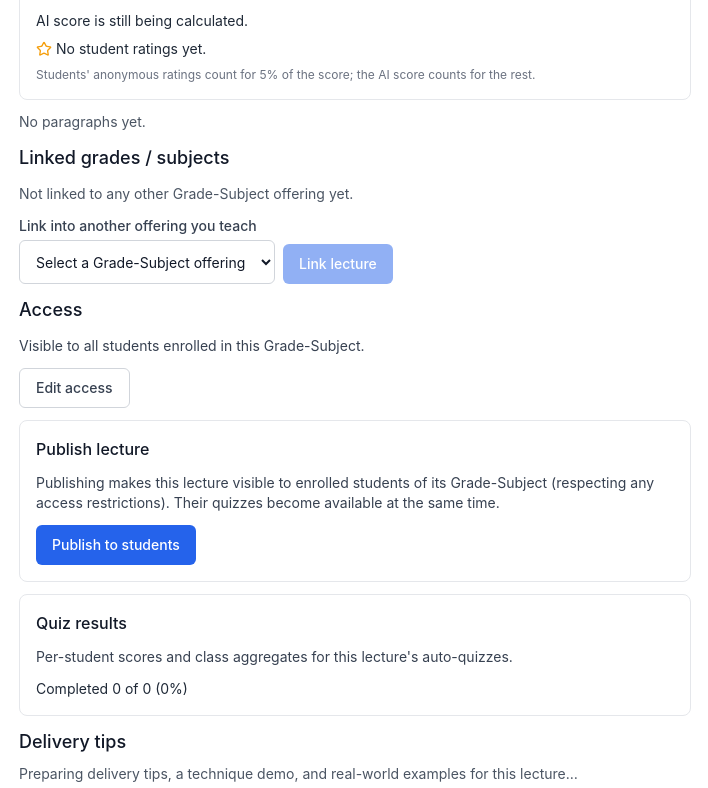
it: LectureAccessPanel (T-123) › lets the teacher restrict access to a section
The width and height of the screenshot is (708, 788).
(page scrolled)
Click the button "Edit access". click: (74, 388)
box: 19,368 -> 130,408
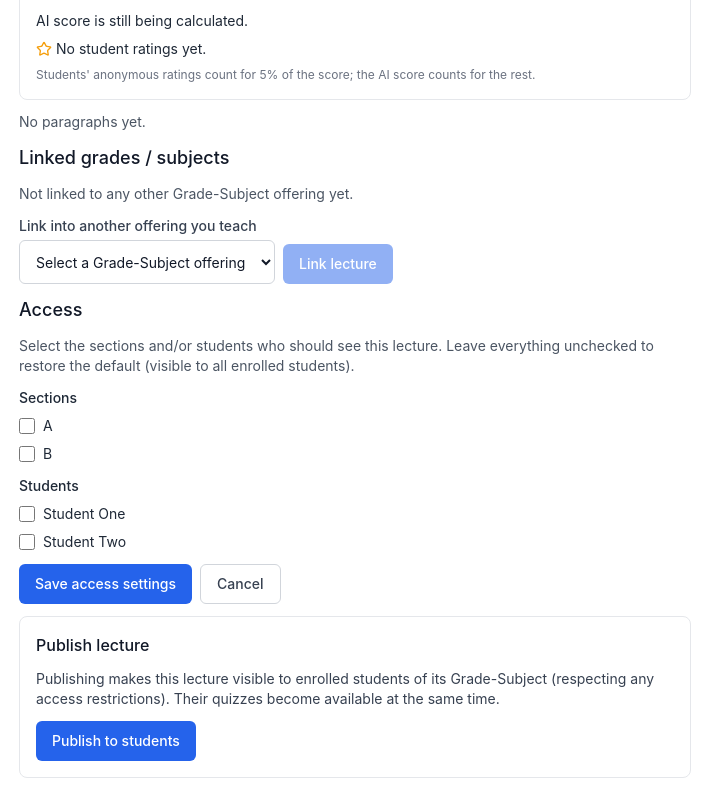
Click the checkbox labelled "A". click: (27, 426)
box: 19,418 -> 35,434
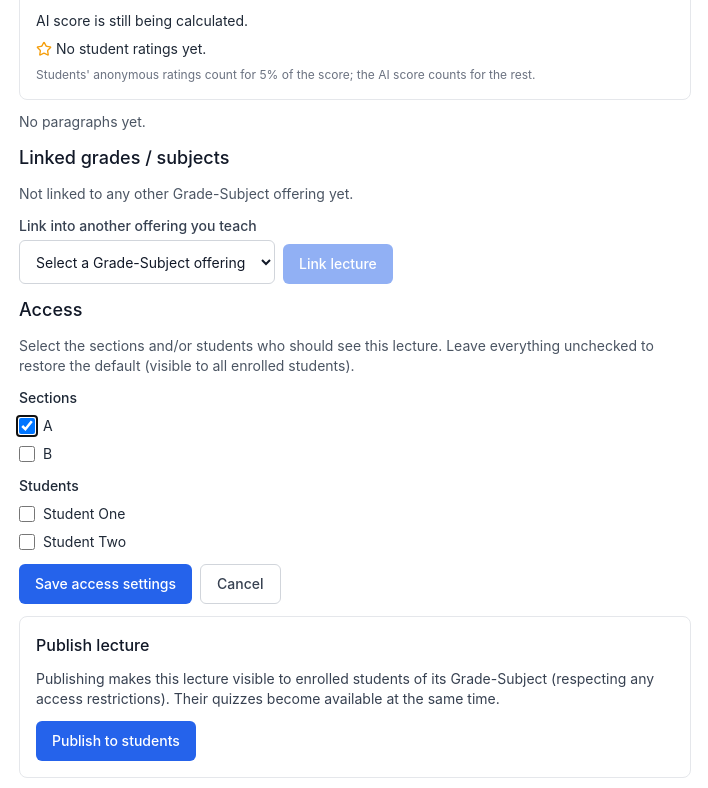
Click the button "Save access settings". click: (106, 584)
box: 19,564 -> 192,604
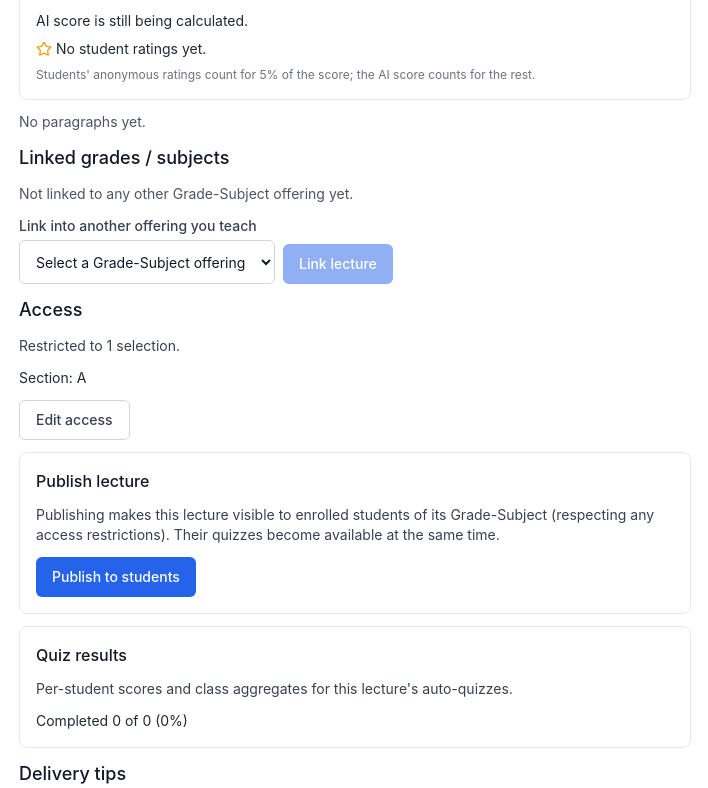
Expected: the text "Restricted to 1 selection." is shown, 19,337 -> 180,354
